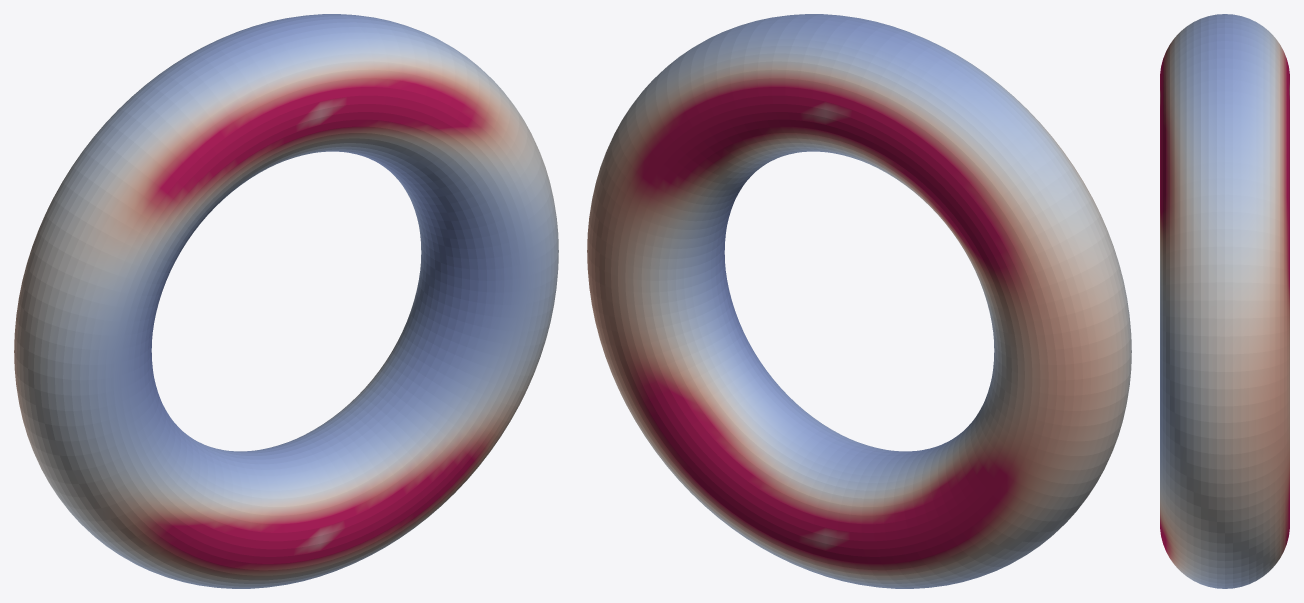
3 views of the same model, side by side, from view 1: azimuth 30°, elevation 25°; view 2: azimuth 150°, elevation 25°; view 3: azimuth 270°, elevation 25° (orthographic). The views are drawn at different scales.
Visible parts, largest first — view 1: world; view 2: world; view 3: world.
Boxes of the visible parts, left/top/right/bottom form: world: left=14, top=14, right=558, bottom=588; world: left=587, top=14, right=1131, bottom=588; world: left=1160, top=14, right=1289, bottom=588.
Size of the model in its own units: 24.13 by 24.13 by 5.46.
